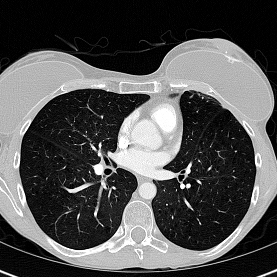nodule: (185, 183, 191, 189)
